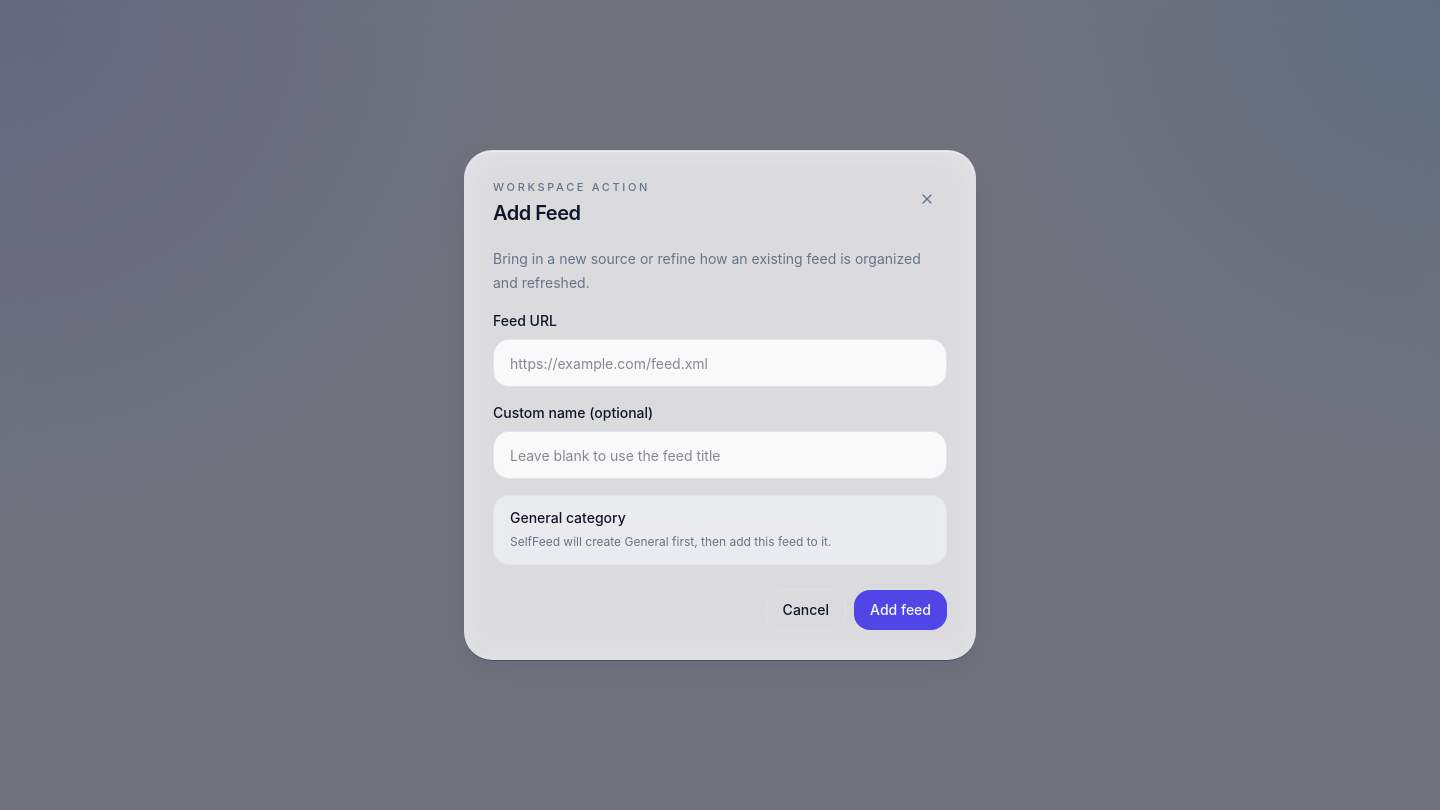
FeedDialog - add mode › preserves first-feed fields when creating General fails
Type "https://example.com/first.xml" into the field labelled "Feed URL". click: [720, 363]
box: [493,339,947,387]
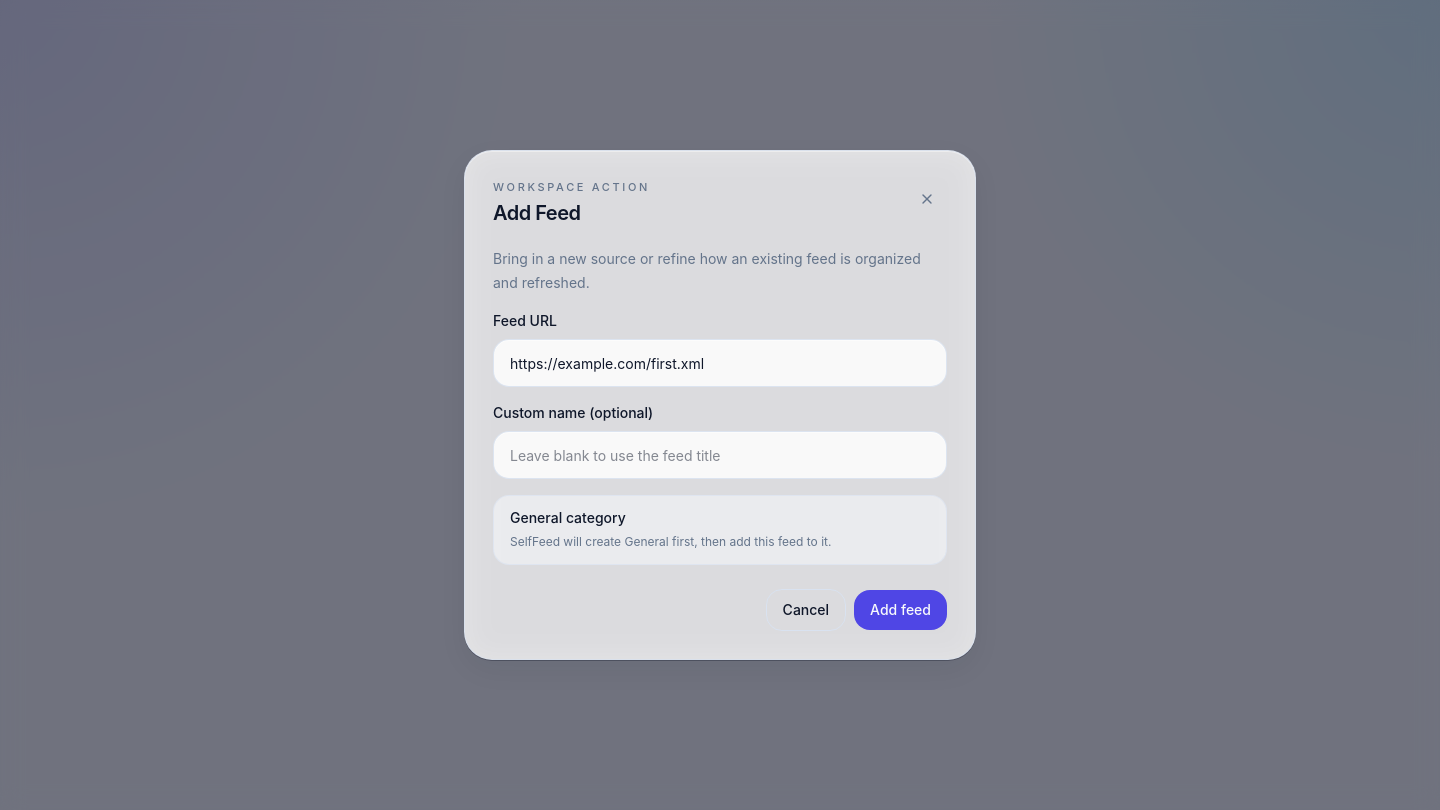
Type "Keep this title" into the field labelled "Custom name (optional)". click: [720, 455]
box: [493,431,947,479]
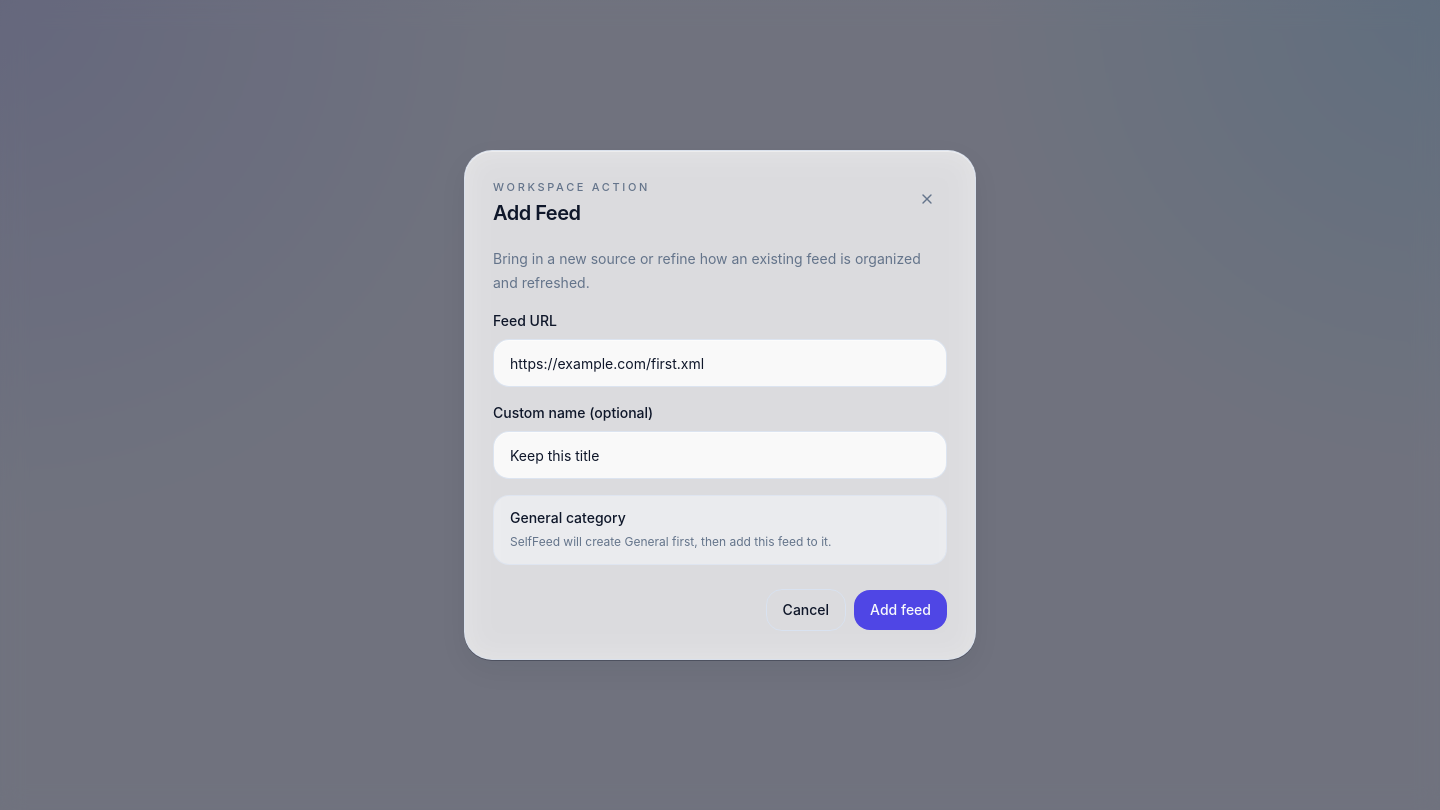
Click the button "Add feed". click: [901, 610]
box: [854,590,947,630]
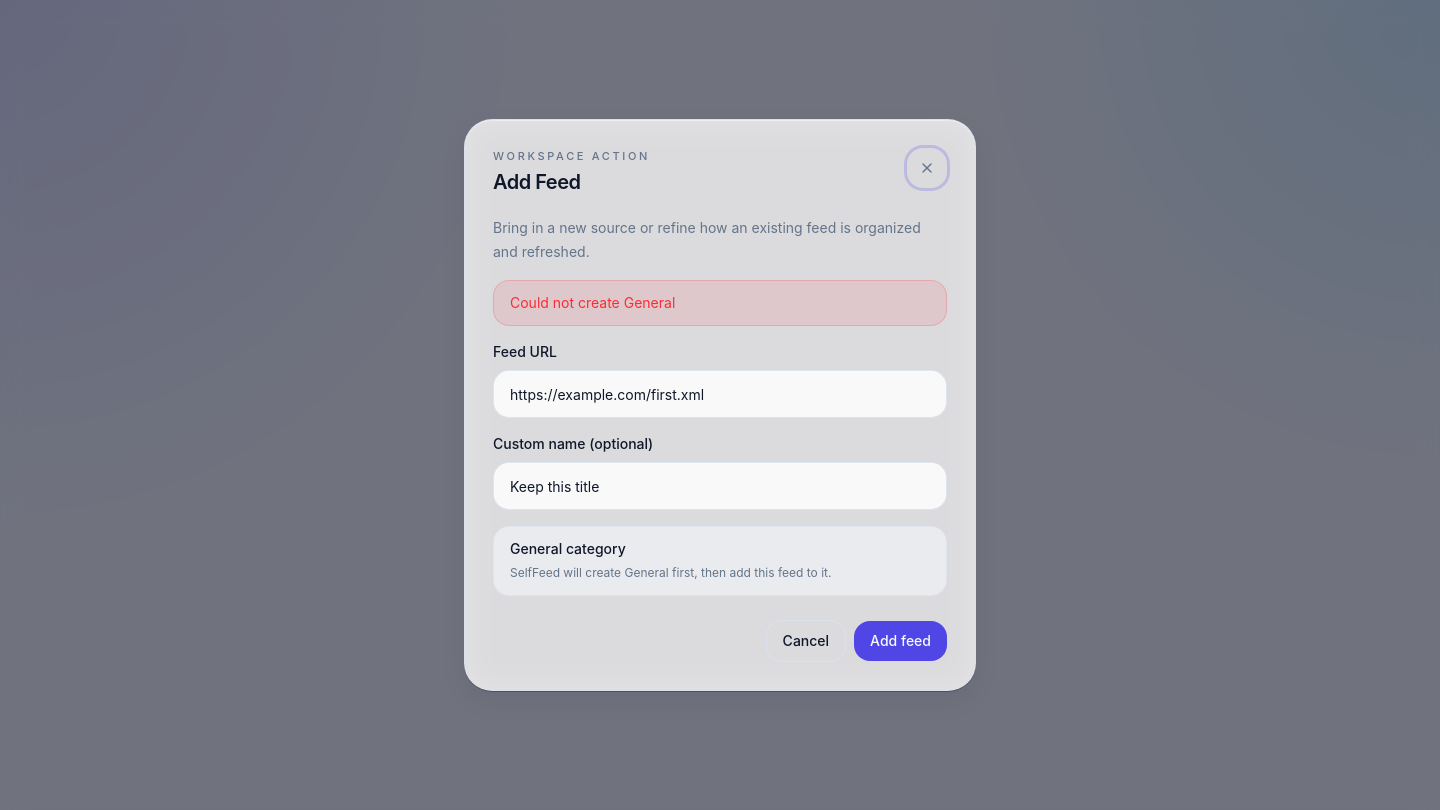
Check: the text "Could not create General" is shown, box [493,280,947,326]
